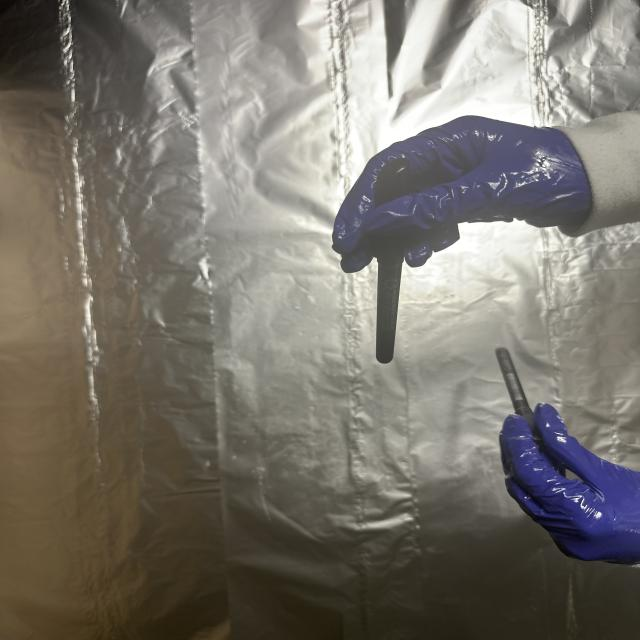gloves_contaminated: (333, 116, 592, 273), (499, 403, 640, 564)
